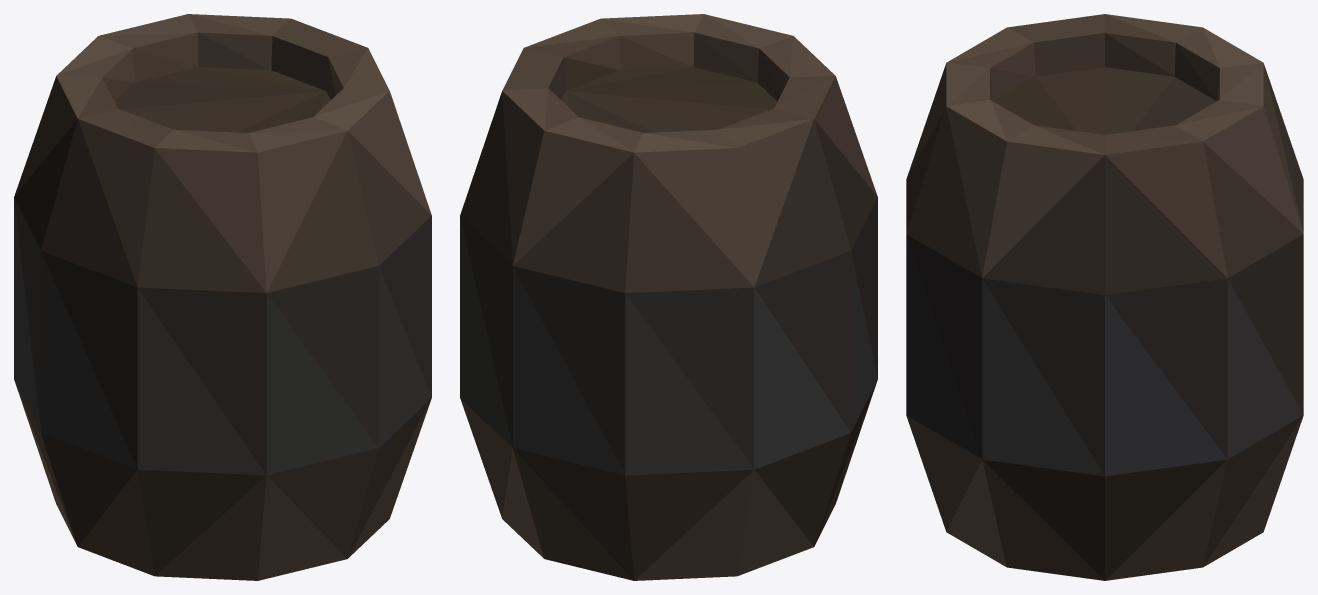
The model's file is prop_container_barrel_2.fbx.
The picture shows the model from 3 angles, left to right: view 1: azimuth 30°, elevation 25°; view 2: azimuth 150°, elevation 25°; view 3: azimuth 270°, elevation 25°; orthographic projection.
Parts seen in each view (by area): view 1: prop_container_barrel_2; view 2: prop_container_barrel_2; view 3: prop_container_barrel_2.
Part boxes in pixels (x1,y1,x2,y2): prop_container_barrel_2: (14, 14, 431, 580); prop_container_barrel_2: (460, 14, 877, 580); prop_container_barrel_2: (906, 14, 1303, 580).
Size of the model in its own units: 1.07 by 1.2 by 1.01.
